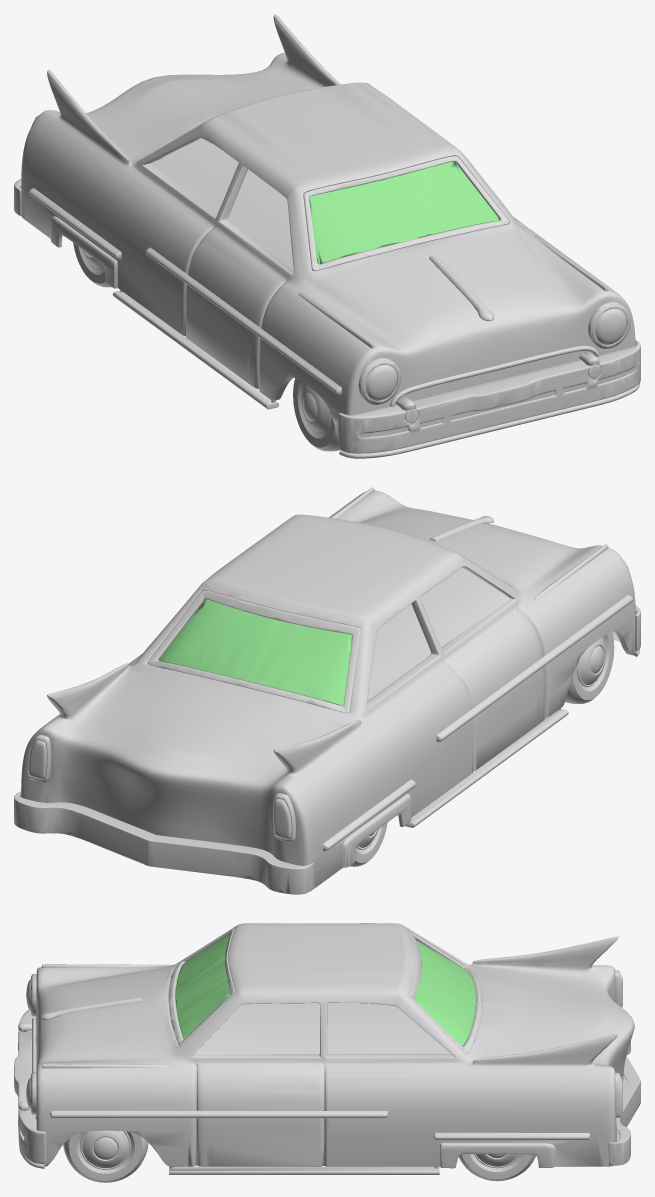
The model's file is car.glb.
The picture shows the model from 3 angles, top to bottom: view 1: azimuth 30°, elevation 25°; view 2: azimuth 150°, elevation 25°; view 3: azimuth 270°, elevation 25°; orthographic projection. The views are drawn at different scales.
Visible parts, largest first — view 1: CarBody, Glass, wheel_fr, wheel_rr; view 2: CarBody, Glass, wheel_fr, wheel_rr; view 3: CarBody, Glass, wheel_fl, wheel_rl.
Part boxes in pixels (box(x1,y1,x2,y2)): CarBody: box(14, 14, 640, 458); Glass: box(309, 161, 499, 264); wheel_fr: box(293, 378, 340, 451); wheel_rr: box(68, 218, 111, 287); CarBody: box(14, 487, 640, 894); Glass: box(159, 599, 352, 705); wheel_fr: box(565, 631, 614, 703); wheel_rr: box(349, 811, 387, 866); CarBody: box(14, 923, 640, 1174); Glass: box(175, 934, 476, 1046); wheel_fl: box(63, 1130, 148, 1182); wheel_rl: box(458, 1154, 535, 1181).
Size of the model in its own units: 0.0187 by 0.0116 by 0.0384.
